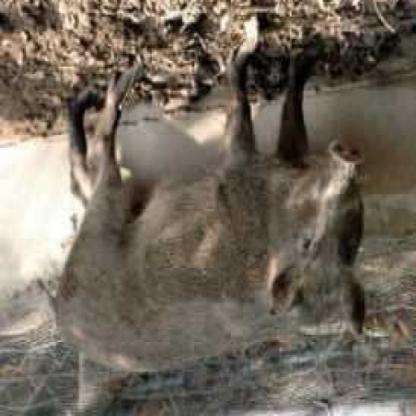boar: (36, 55, 415, 385)
